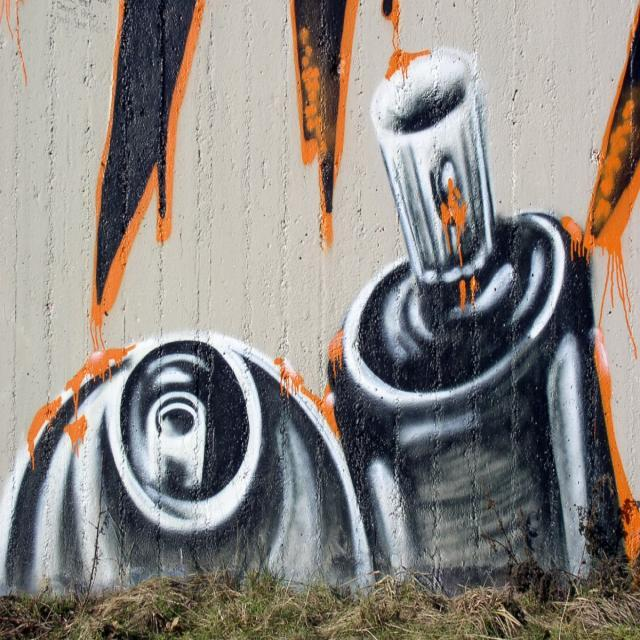-: (329, 50, 640, 583), (7, 332, 376, 594), (88, 0, 204, 329), (292, 0, 358, 240), (588, 2, 640, 253)
